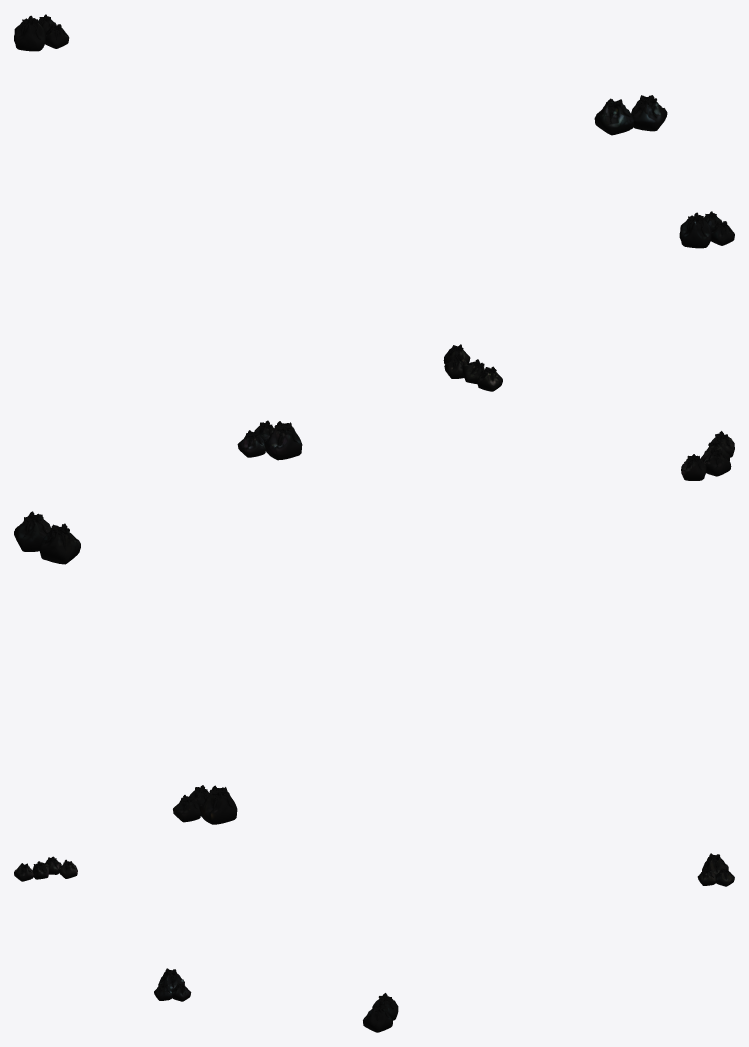
The picture shows the model from 3 angles, top to bottom: view 1: azimuth 30°, elevation 25°; view 2: azimuth 150°, elevation 25°; view 3: azimuth 270°, elevation 25°; orthographic projection. The views are drawn at different scales.
Visible parts, largest first — view 1: pb; view 2: pb; view 3: pb.
Part boxes in pixels (x1=…): pb: x1=14, y1=14, x2=734, y2=391; pb: x1=14, y1=420, x2=734, y2=824; pb: x1=14, y1=853, x2=734, y2=1032.
Size of the model in its own units: 14.95 by 1.37 by 28.53.
1 material, 1 textured.
